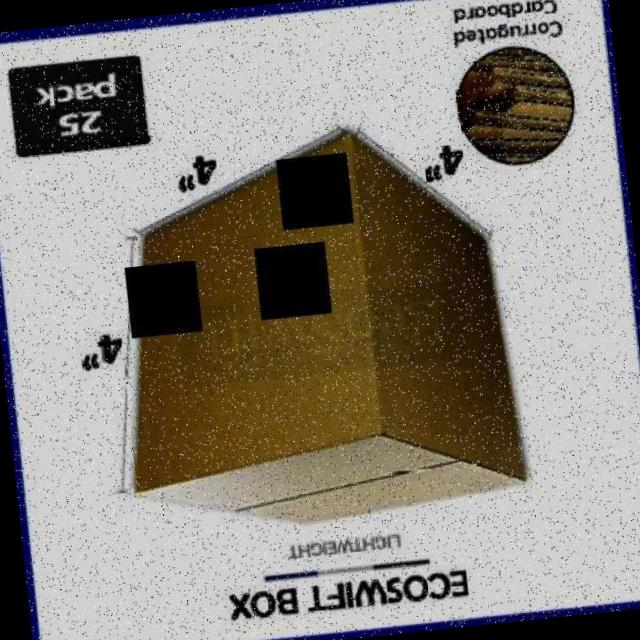box: (80, 98, 542, 553)
